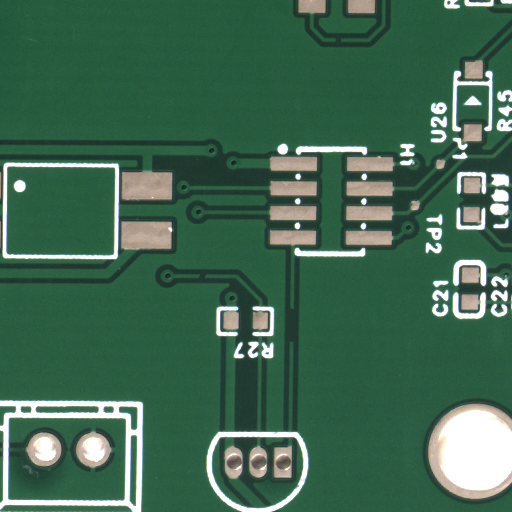Open_circuit: (290, 325, 297, 358), (338, 37, 345, 46), (203, 273, 210, 282)
